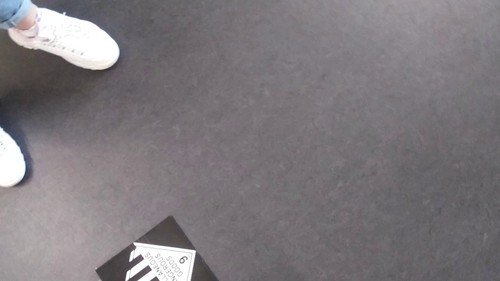misgoods: (116, 234, 210, 281)
